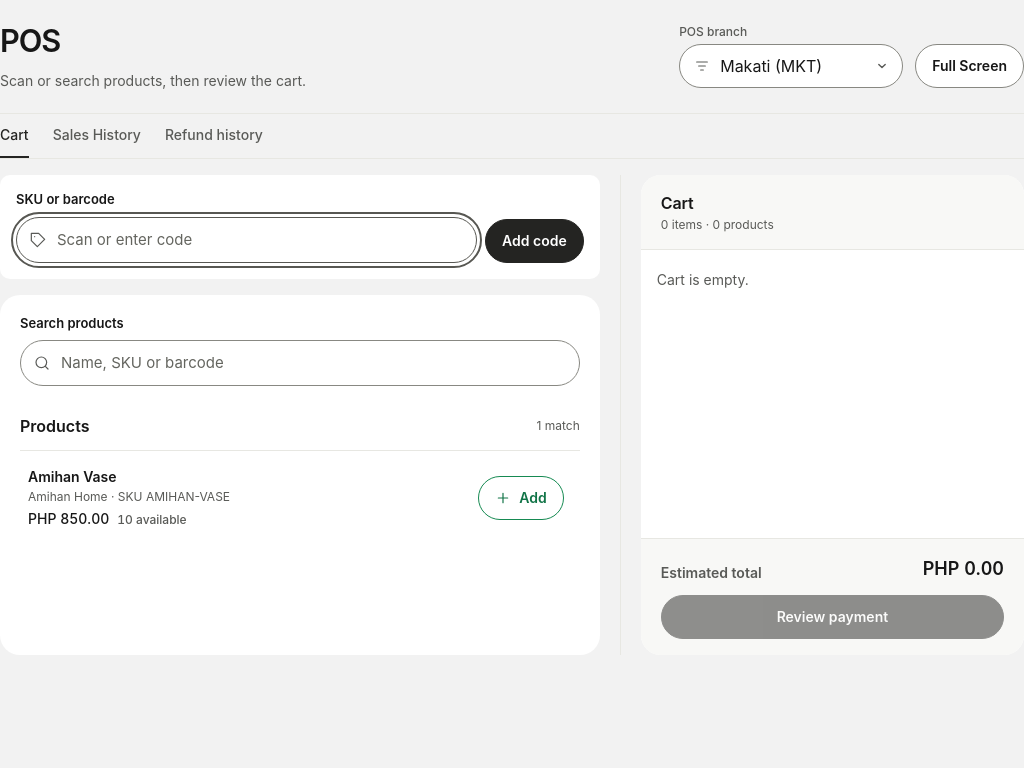
Branch POS cart workflows › blocks payment until a INSUFFICIENT_STOCK line is corrected or removed
Type "001Ab" into the field labelled "SKU or barcode" at (247, 240), box [16,217,477,263]
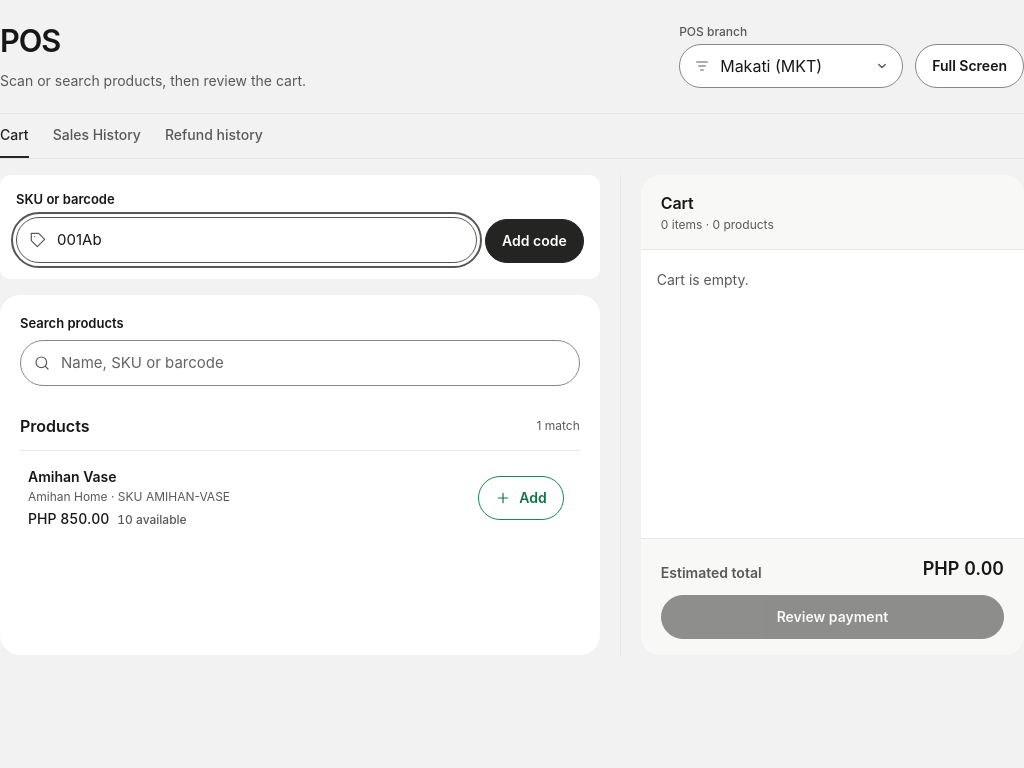
Press Enter in the field labelled "SKU or barcode", box [16,217,477,263]
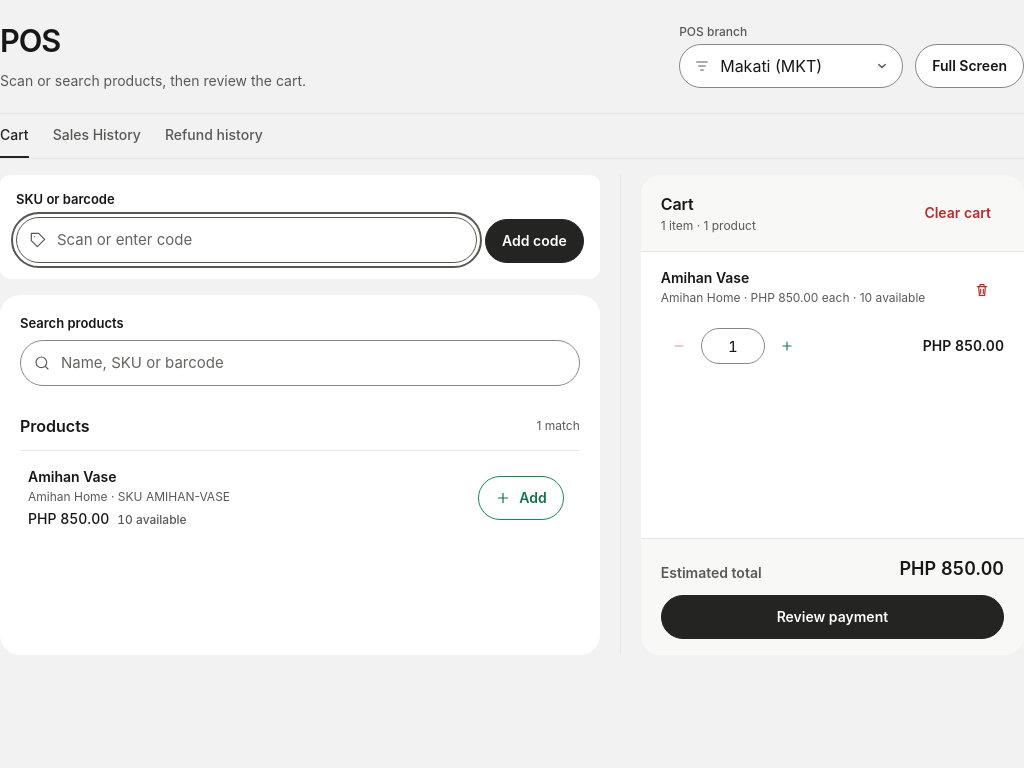
Click the button "Review payment" at (832, 617), box [661,595,1004,639]
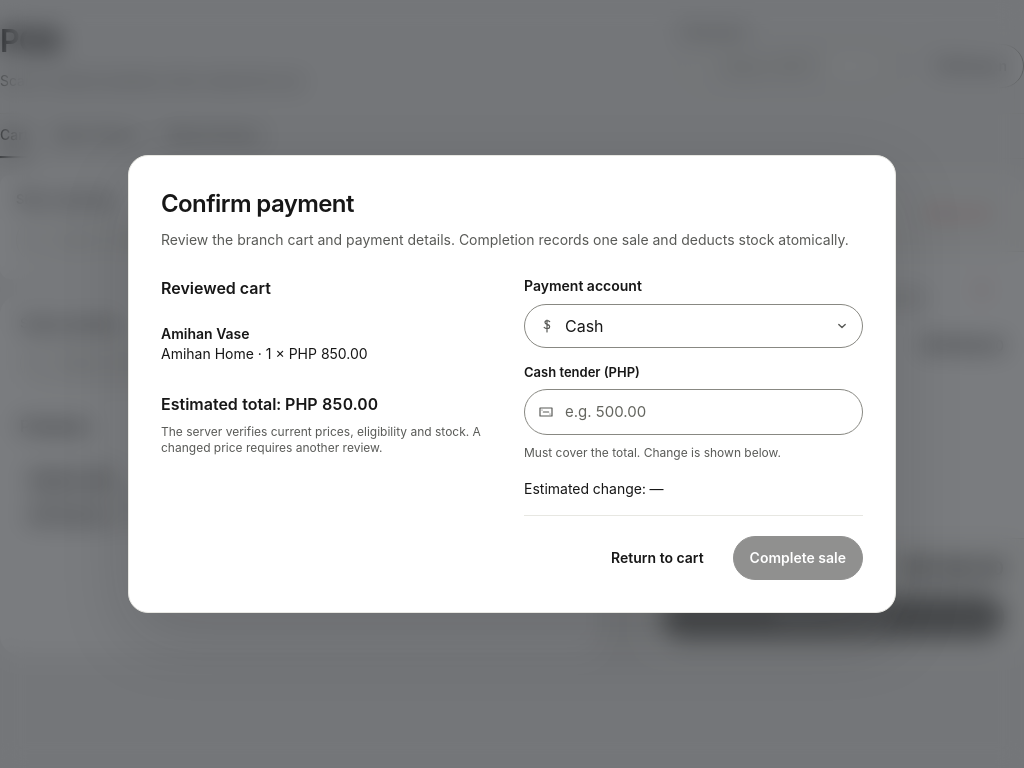
Type "1000" into the field labelled "Cash tender (PHP)" at (694, 412), box [524,389,863,435]
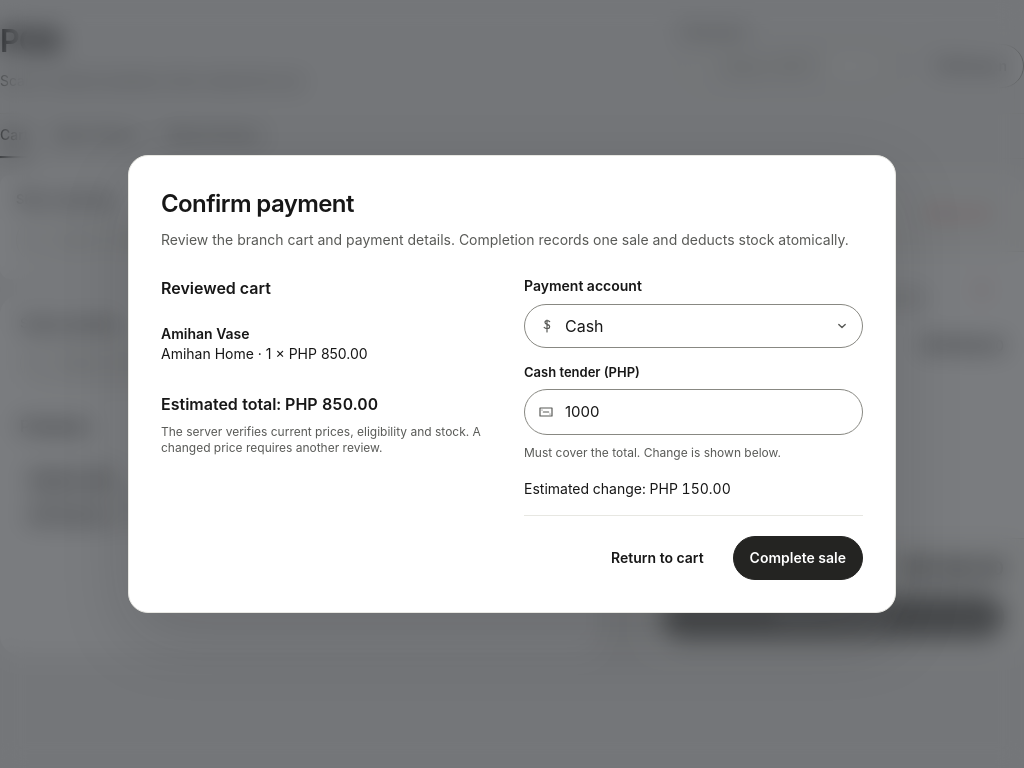
Click the button "Complete sale" at (798, 558), box [733,536,863,580]
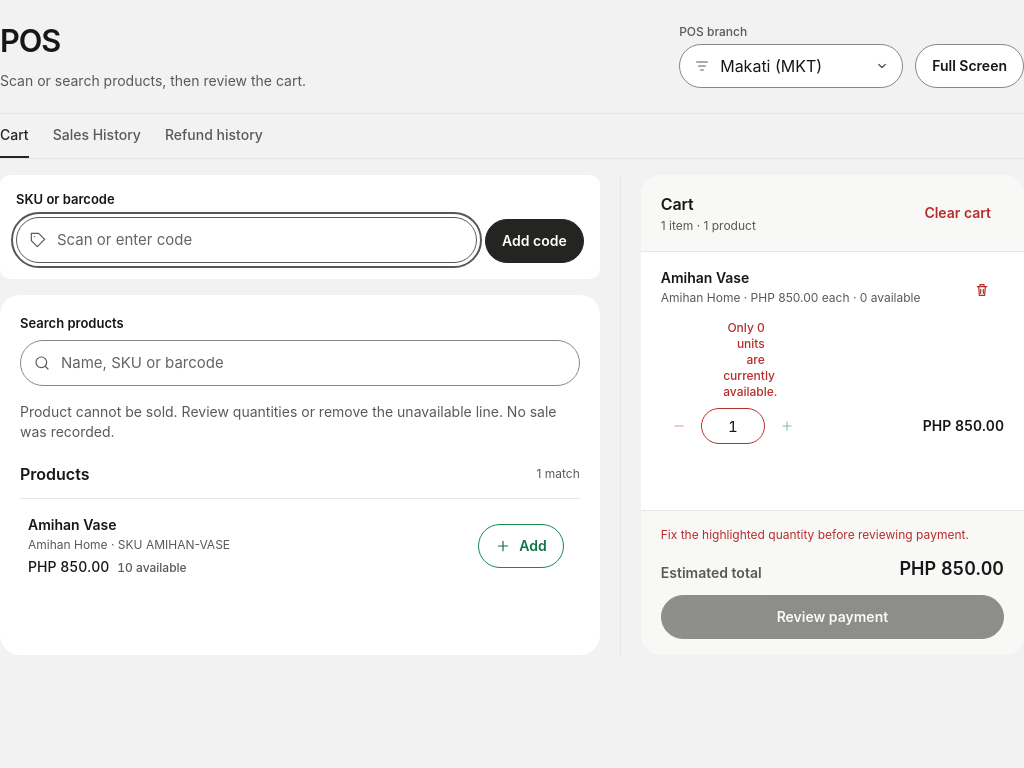
Now the button "Review payment" is disabled, box [661,595,1004,639]
Now the dialog is gone
